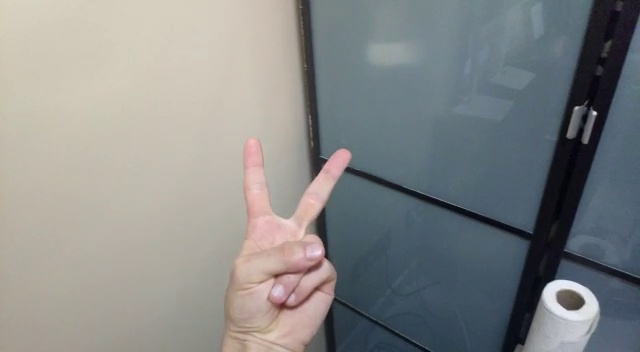Peace: (215, 125, 354, 351)
